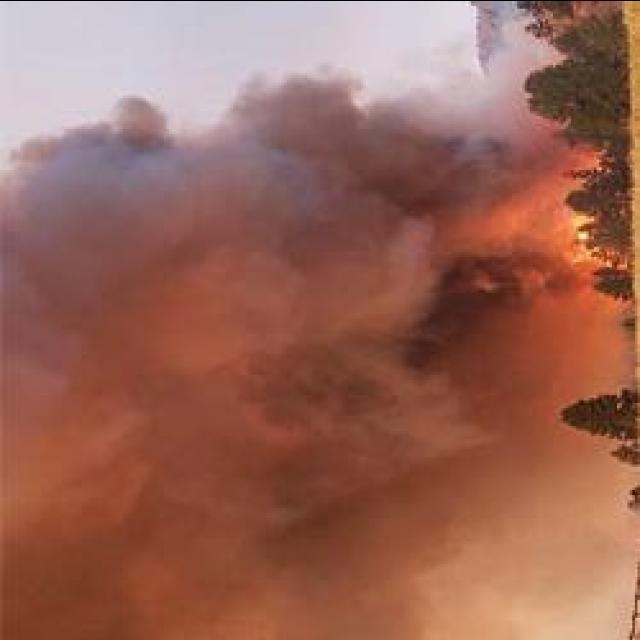smoke: (109, 362, 319, 518), (47, 124, 295, 244), (272, 308, 438, 428), (226, 74, 436, 164), (398, 249, 524, 386), (409, 175, 569, 269), (412, 130, 540, 186), (461, 33, 521, 115)
